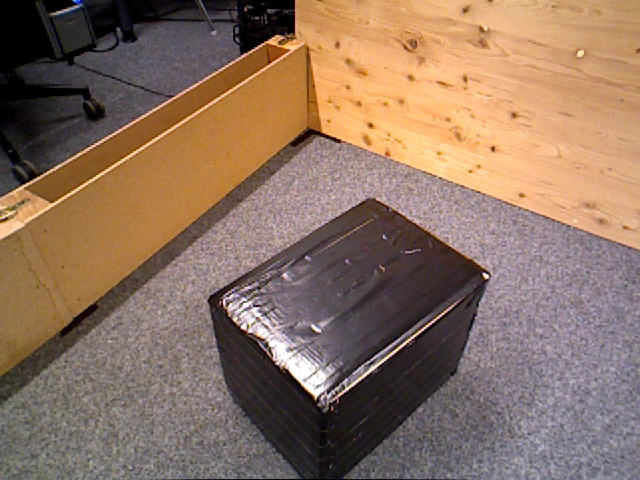push: (210, 198, 490, 474)
